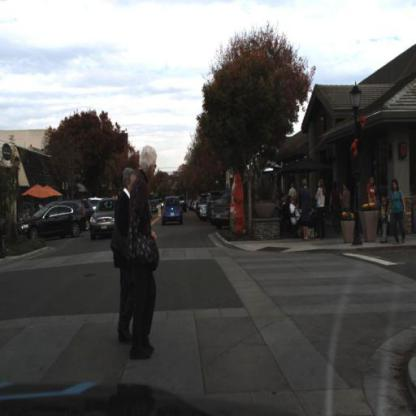car: (21, 203, 78, 243), (88, 198, 120, 241), (164, 196, 185, 228), (207, 190, 222, 226), (214, 195, 230, 226), (201, 198, 206, 222)
pedestrian: (116, 143, 165, 369), (109, 166, 138, 357), (388, 179, 409, 245), (298, 179, 316, 246), (367, 174, 381, 234), (329, 182, 343, 238), (315, 177, 327, 239), (289, 197, 307, 237), (379, 196, 393, 243), (342, 182, 353, 231), (288, 181, 300, 207), (196, 194, 200, 218)
